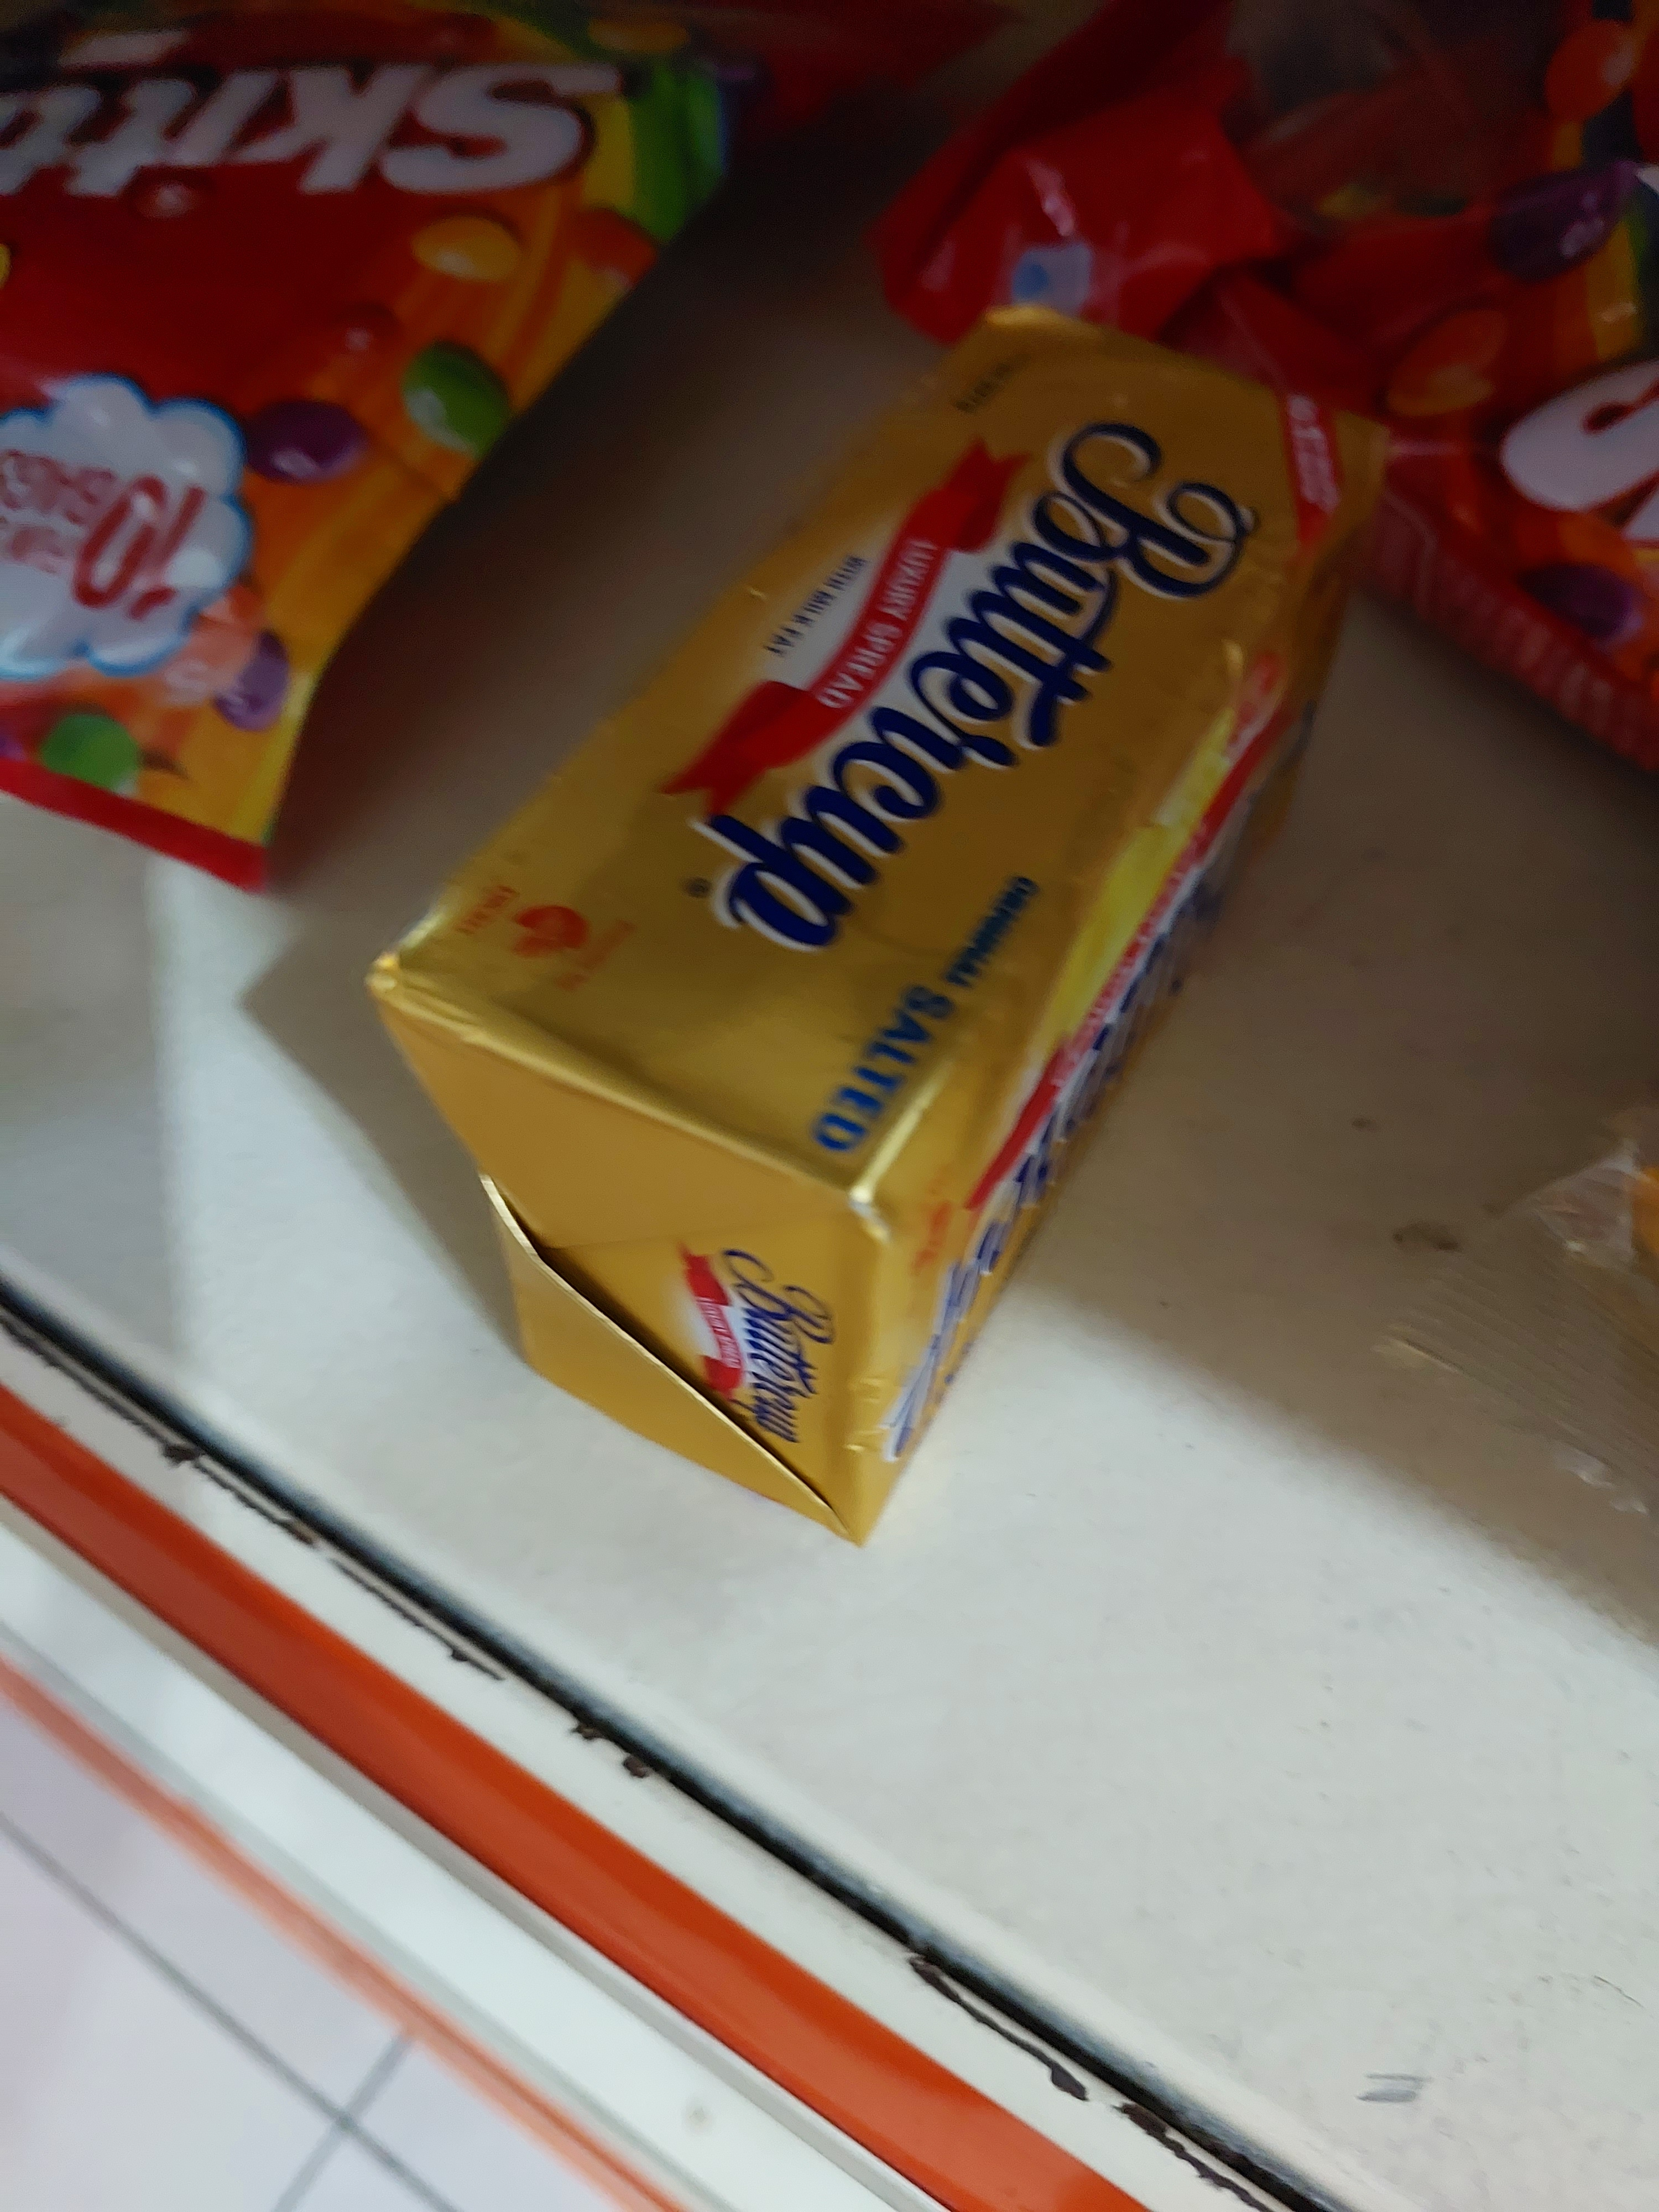butter: (362, 310, 1382, 1561)
